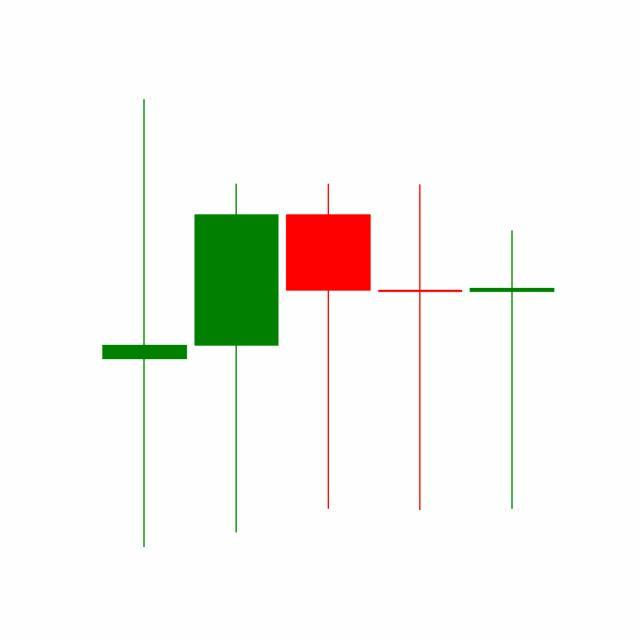Spinning Top: (374, 181, 468, 514)
